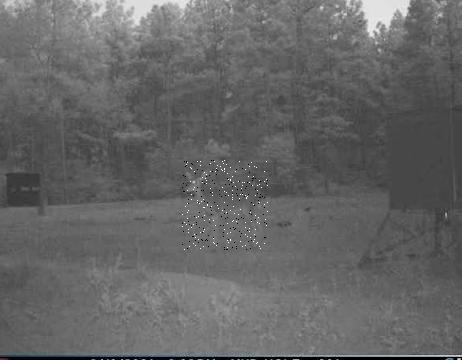Deer: (182, 160, 268, 250)
